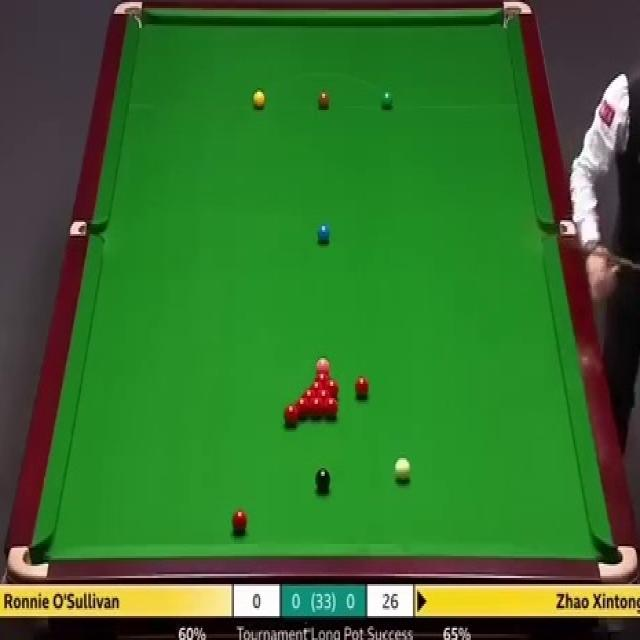black-ball: (315, 466, 331, 492)
blue-ball: (315, 222, 330, 244)
brown-ball: (318, 90, 330, 110)
green-ball: (380, 89, 393, 110)
pink-ball: (315, 356, 331, 370)
red-ball: (232, 510, 248, 538), (354, 376, 371, 398), (309, 396, 323, 420), (324, 396, 338, 420), (284, 402, 298, 424), (296, 395, 309, 418), (325, 379, 339, 397), (308, 380, 324, 394), (315, 369, 330, 382), (302, 388, 318, 400), (316, 388, 332, 399)
white-ball: (393, 456, 411, 481)
yellow-ball: (252, 88, 266, 109)
